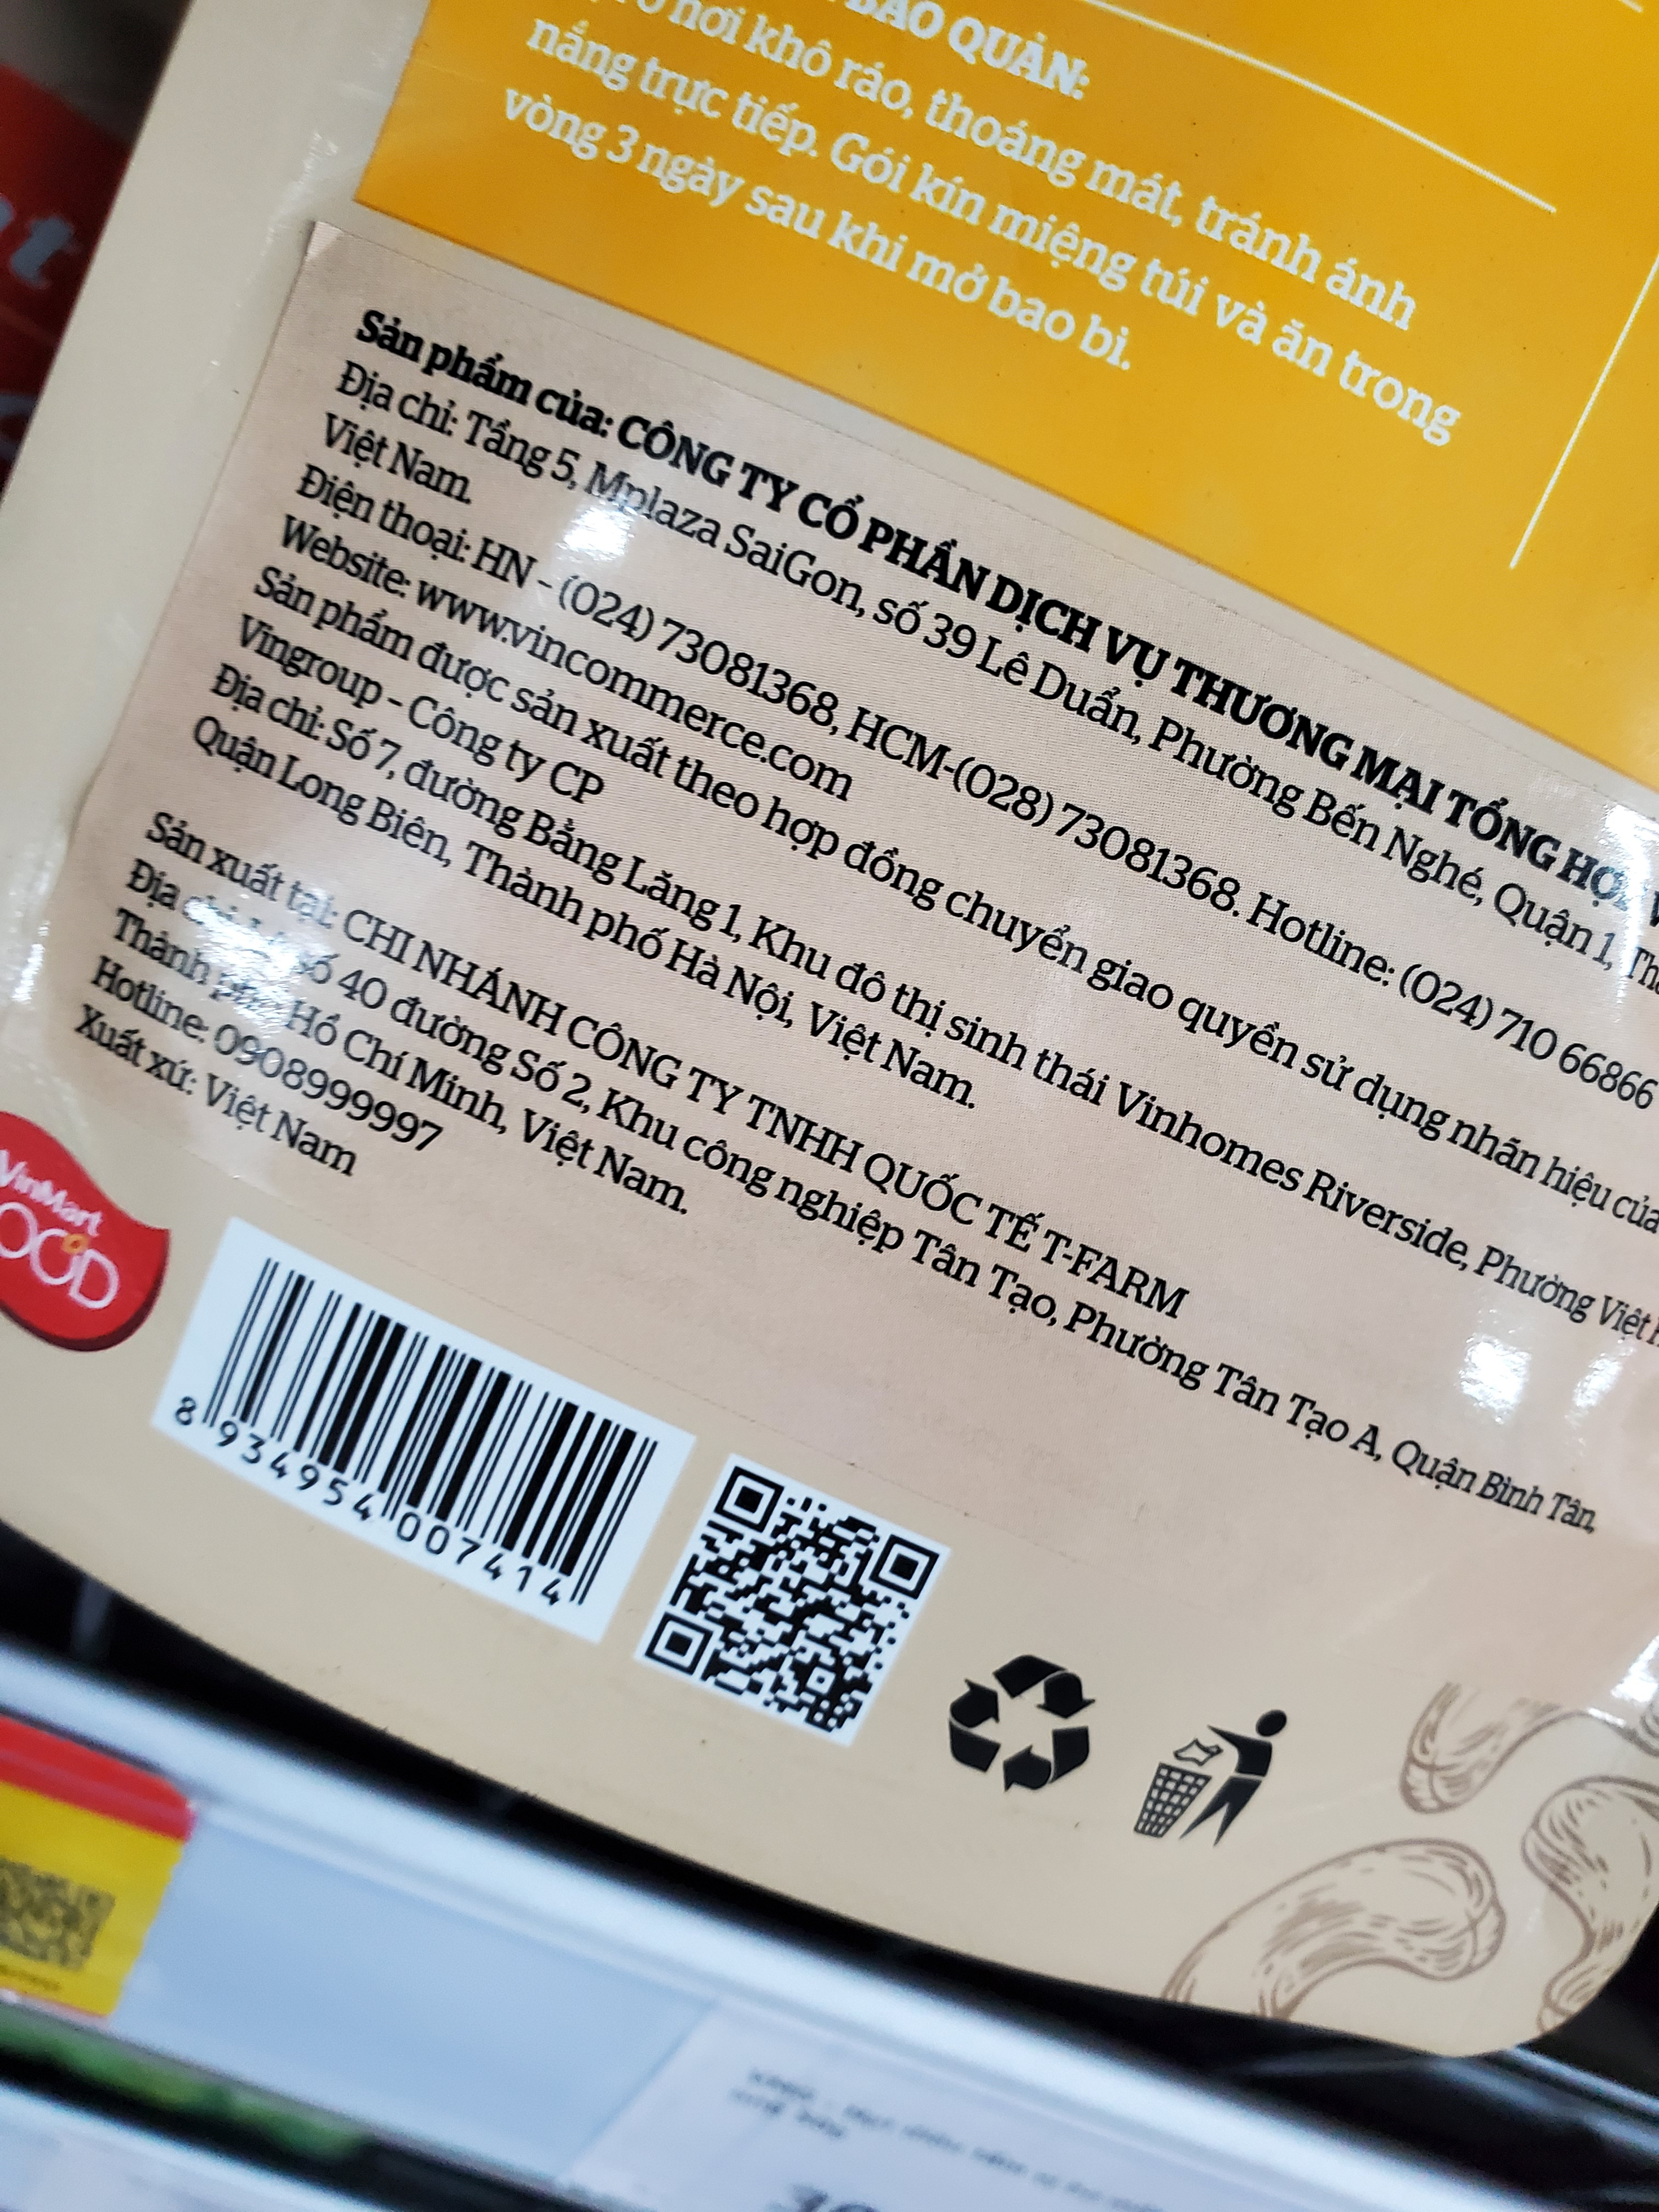barcode: (136, 1233, 667, 1693)
qr code: (636, 1426, 958, 1801)
